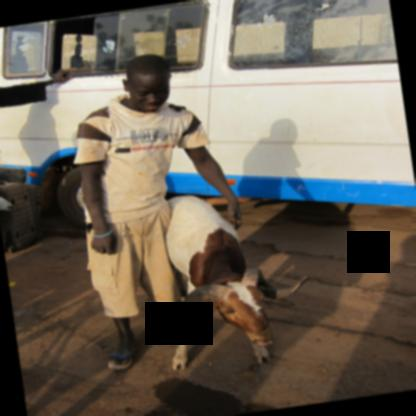suitcase: (0, 181, 43, 256)
